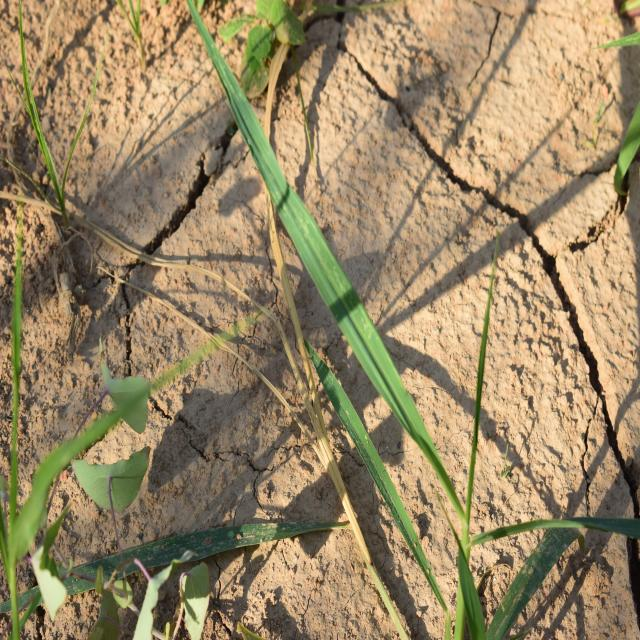green_foxtail: (256, 98, 560, 600)
